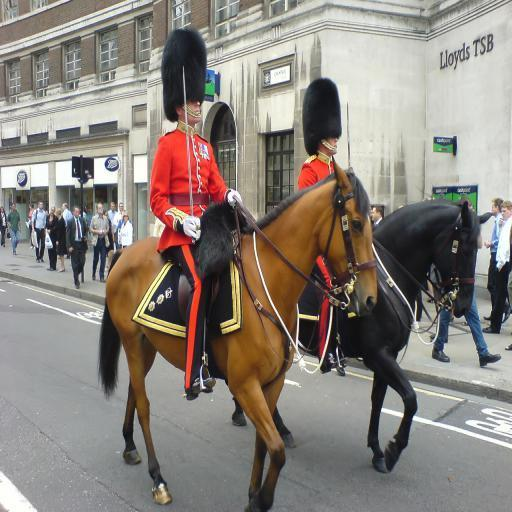horse: (94, 152, 378, 512), (230, 200, 493, 474)
